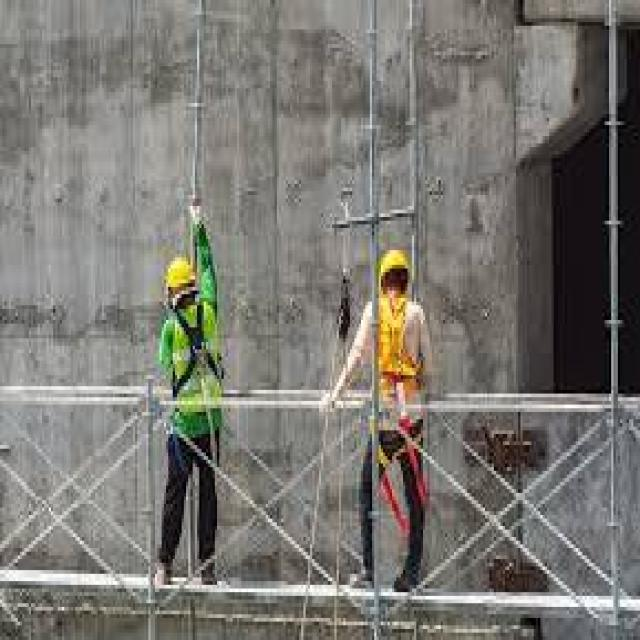Reflective-Jacket: (359, 291, 438, 467), (157, 298, 235, 441)
Safety-Helmet: (157, 247, 204, 306), (370, 236, 416, 294)
